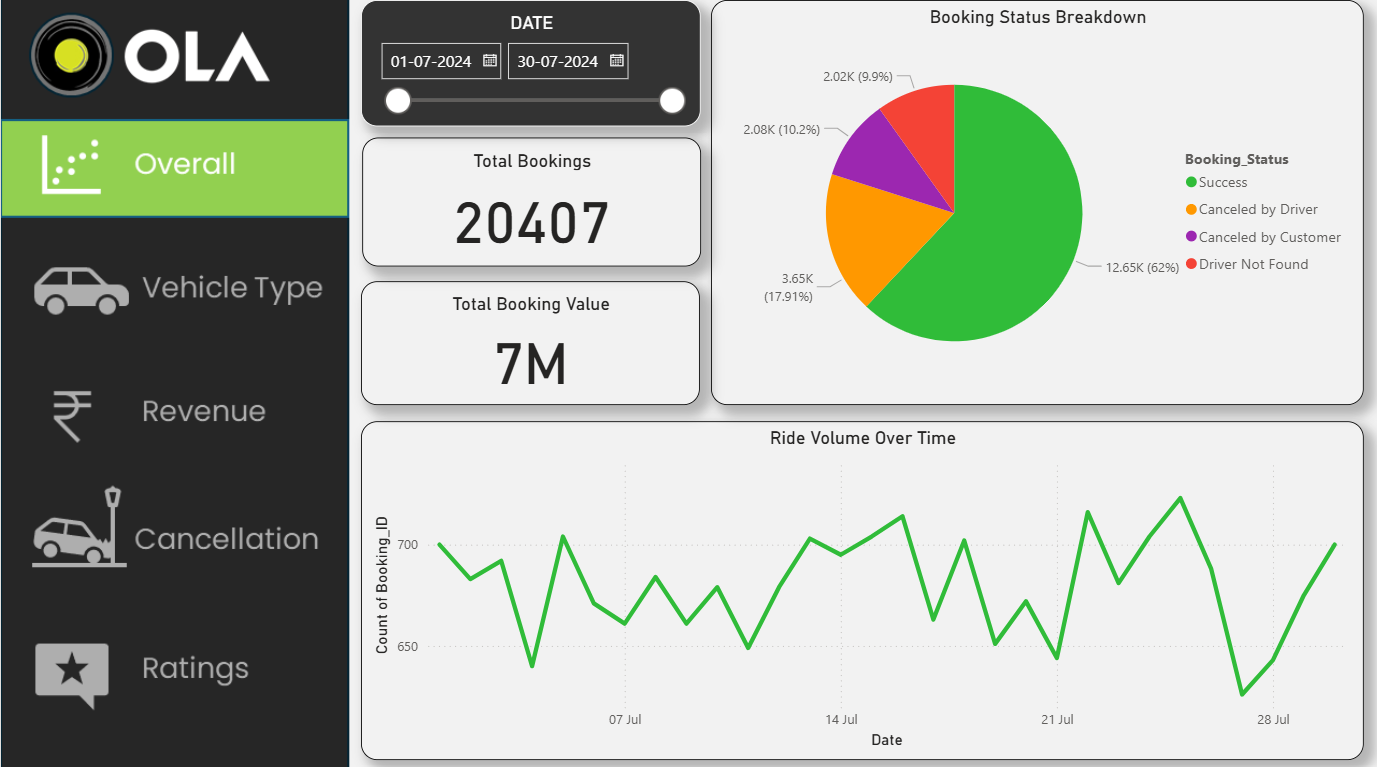

What the dashboard file says about the page in this screenshot:
{"tool":"powerbi","page":{"name":"Overall","canvas":[1280,720],"ordinal":0},"visuals":[{"type":"actionButton","box":[0,224.6,324.4,90.7],"z":0},{"type":"actionButton","box":[0,336.9,324.4,90.7],"z":1000},{"type":"actionButton","box":[0,438.9,324.4,102.1],"z":2000},{"type":"actionButton","box":[0,577.3,324.4,90.7],"z":3000},{"type":"lineChart","title":"Ride Volume Over Time","fields":{"Y":["CountNonNull(Bookings_July.Booking_ID)"],"Category":["Bookings_July.Date"]},"box":[334.9,391.9,932.6,315.1],"z":4000},{"type":"pieChart","title":"Booking Status Breakdown","fields":{"Category":["Bookings_July.Booking_Status"],"Y":["CountNonNull(Bookings_July.Booking_Value)"]},"box":[660.5,0,607,376.7],"z":5000},{"type":"slicer","title":"DATE","fields":{"Values":["Bookings_July.Date"]},"box":[334.9,0,316.3,117.4],"z":6000},{"type":"card","title":"Total Bookings","fields":{"Values":["Count(Bookings_July.Booking_ID)"]},"box":[336,127.9,315.1,119.8],"z":7000},{"type":"card","title":"Total Booking Value","fields":{"Values":["Sum(Bookings_July.Booking_Value)"]},"box":[334.9,261.6,315.1,115.1],"z":8000}]}

Visuals, with their boxes in screenshot pixels (x1, y1, x2, y2), scaled from the page's 1280x720 canvas onto the 1377x767 screenshot:
actionButton: x1=0, y1=239, x2=349, y2=336
actionButton: x1=0, y1=359, x2=349, y2=456
actionButton: x1=0, y1=468, x2=349, y2=576
actionButton: x1=0, y1=615, x2=349, y2=712
"Ride Volume Over Time" lineChart: x1=360, y1=417, x2=1364, y2=753
"Booking Status Breakdown" pieChart: x1=711, y1=0, x2=1364, y2=401
"DATE" slicer: x1=360, y1=0, x2=701, y2=125
"Total Bookings" card: x1=361, y1=136, x2=700, y2=264
"Total Booking Value" card: x1=360, y1=279, x2=699, y2=401
